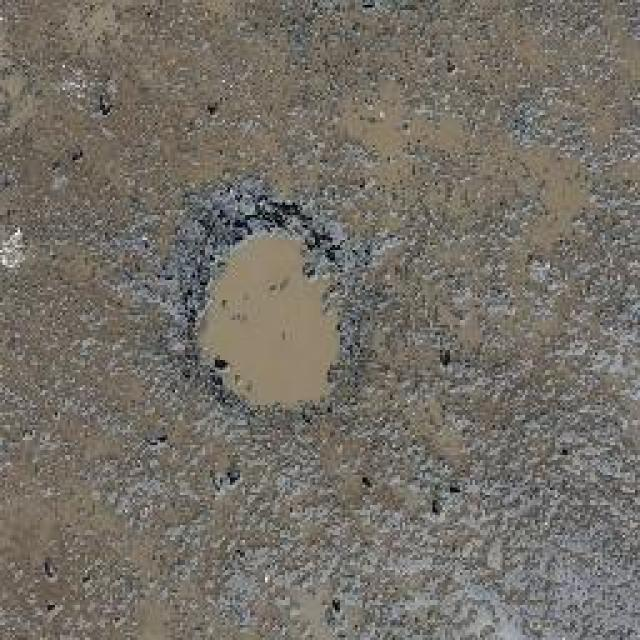stagnation: (173, 185, 370, 440)
